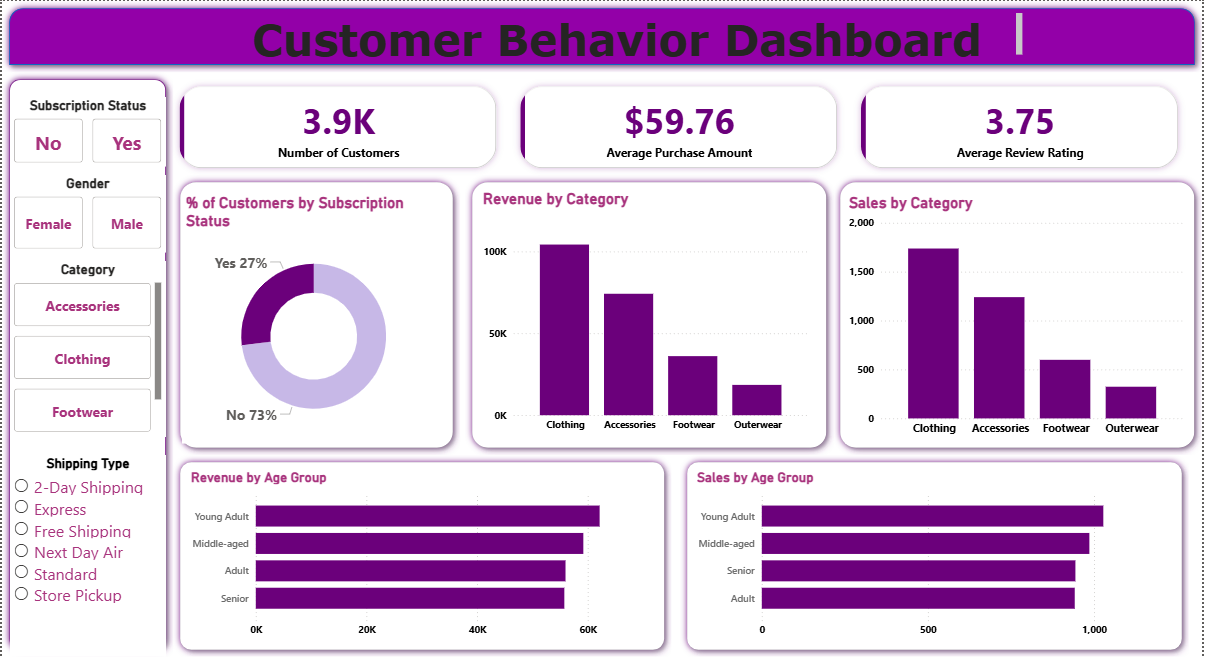

The dashboard page shown, as its layout file describes it:
{"tool":"powerbi","page":{"name":"Page 1","canvas":[1500,820],"ordinal":0},"visuals":[{"type":"cardVisual","fields":{"Data":["public customer.Number of Customers","public customer.Average Purchase Amount","public customer.Average Review Rating"]},"box":[194.3,78.3,1305.7,158.1],"z":0},{"type":"shape","box":[0,0,1500,88.9],"z":1000},{"type":"textbox","box":[307.2,10.5,972.9,67.8],"z":2000},{"type":"shape","box":[214.1,217,358.8,349.9],"z":3000},{"type":"donutChart","title":"% of Customers by Subscription Status","fields":{"Category":["public customer.subscription_status"],"Y":["CountNonNull(public customer.customer_id)"]},"box":[224.4,240.6,329.2,311.5],"z":4000},{"type":"shape","box":[578.7,217,460.6,349.9],"z":5000},{"type":"shape","box":[1039.4,217,460.6,349.9],"z":6000},{"type":"clusteredColumnChart","title":"Revenue by Category","fields":{"Y":["Sum(public customer.purchase_amount)"],"Category":["public customer.category"]},"box":[596.5,236.2,417.8,311.5],"z":7000},{"type":"clusteredColumnChart","title":"Sales by Category","fields":{"Category":["public customer.category"],"Y":["CountNonNull(public customer.customer_id)"]},"box":[1054.1,240.6,429.6,311.5],"z":8000},{"type":"shape","box":[0,88.6,214.1,730.8],"z":9000},{"type":"advancedSlicerVisual","title":"Subscription Status","fields":{"Values":["public customer.subscription_status"]},"box":[10.3,119.6,194.9,87.1],"z":10000},{"type":"advancedSlicerVisual","title":"Gender","fields":{"Values":["public customer.gender"]},"box":[10.3,217,194.9,97.4],"z":11000},{"type":"advancedSlicerVisual","title":"Category","fields":{"Values":["public customer.category"]},"box":[10.3,324.8,194.9,220],"z":12000},{"type":"listSlicer","title":"Shipping Type","fields":{"Values":["public customer.shipping_type"]},"box":[10.3,566.9,194.9,252.5],"z":13000},{"type":"shape","box":[214.1,566.9,623,252.5],"z":14000},{"type":"clusteredBarChart","title":"Revenue by Age Group","fields":{"Y":["Sum(public customer.purchase_amount)"],"Category":["public customer.age_group"]},"box":[231.8,584.6,586.1,218.5],"z":16500},{"type":"shape","box":[847.4,566.9,636.3,252.5],"z":16501},{"type":"clusteredBarChart","title":"Sales by Age Group","fields":{"Y":["CountNonNull(public customer.customer_id)"],"Category":["public customer.age_group"]},"box":[863.7,584.6,605.3,218.5],"z":16502}]}

Visuals, with their boxes in screenshot pixels (x1, y1, x2, y2), scaled from the page's 1500x820 canvas onto the 1209x657 screenshot:
cardVisual - public customer.Number of Customers x public customer.Average Purchase Amount: {"left": 157, "top": 63, "right": 1208, "bottom": 189}
shape: {"left": 0, "top": 0, "right": 1208, "bottom": 71}
textbox: {"left": 248, "top": 8, "right": 1032, "bottom": 63}
shape: {"left": 173, "top": 174, "right": 462, "bottom": 454}
"% of Customers by Subscription Status" donutChart: {"left": 181, "top": 193, "right": 446, "bottom": 442}
shape: {"left": 466, "top": 174, "right": 838, "bottom": 454}
shape: {"left": 838, "top": 174, "right": 1208, "bottom": 454}
"Revenue by Category" clusteredColumnChart: {"left": 481, "top": 189, "right": 818, "bottom": 439}
"Sales by Category" clusteredColumnChart: {"left": 850, "top": 193, "right": 1196, "bottom": 442}
shape: {"left": 0, "top": 71, "right": 173, "bottom": 656}
"Subscription Status" advancedSlicerVisual: {"left": 8, "top": 96, "right": 165, "bottom": 166}
"Gender" advancedSlicerVisual: {"left": 8, "top": 174, "right": 165, "bottom": 252}
"Category" advancedSlicerVisual: {"left": 8, "top": 260, "right": 165, "bottom": 437}
"Shipping Type" listSlicer: {"left": 8, "top": 454, "right": 165, "bottom": 656}
shape: {"left": 173, "top": 454, "right": 675, "bottom": 656}
"Revenue by Age Group" clusteredBarChart: {"left": 187, "top": 468, "right": 659, "bottom": 643}
shape: {"left": 683, "top": 454, "right": 1196, "bottom": 656}
"Sales by Age Group" clusteredBarChart: {"left": 696, "top": 468, "right": 1184, "bottom": 643}
